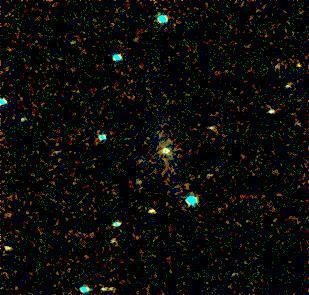star: (286, 51, 309, 81)
